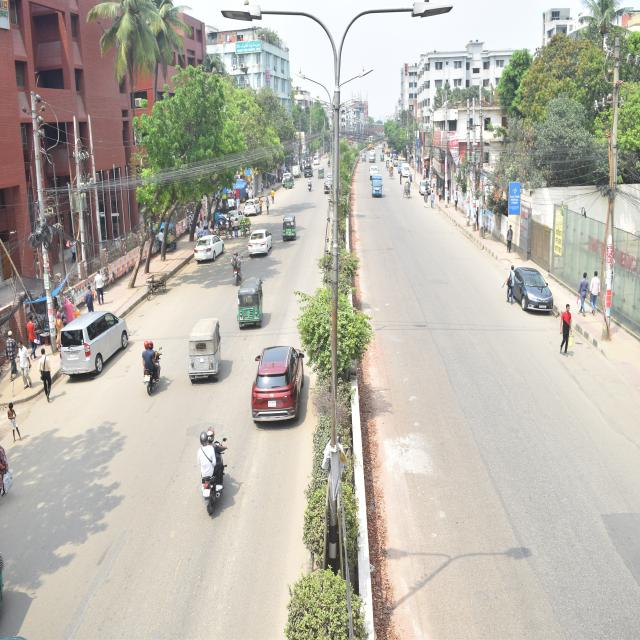car: (56, 310, 134, 383), (250, 344, 306, 426), (512, 261, 556, 316), (191, 232, 228, 264), (245, 227, 275, 259), (227, 210, 246, 231), (244, 197, 266, 214), (420, 175, 432, 198)
motorbike: (198, 442, 230, 517), (139, 347, 163, 400), (230, 255, 243, 288)
pickup-van: (371, 173, 383, 199)
